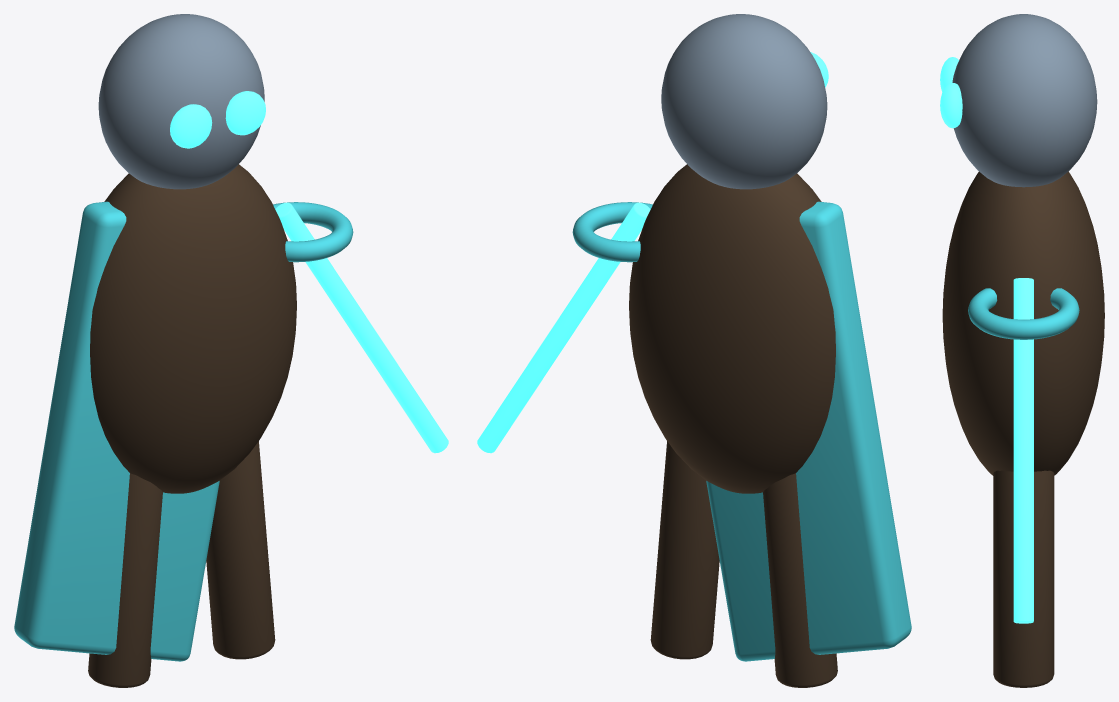
Rendered from humanoid_v4.glb.
3 renders of one model, left to right at view 1: azimuth 30°, elevation 25°; view 2: azimuth 150°, elevation 25°; view 3: azimuth 270°, elevation 25°, orthographic. The views are drawn at different scales.
Parts seen in each view (by area): view 1: DUELIST_TORSO_SECONDARY, DUELIST_CAPE_ACCENT, DUELIST_HEAD_PRIMARY, DUELIST_LEG_SECONDARY.001, DUELIST_LEG_SECONDARY, DUELIST_RAPIER_EMISSIVE, RAPIER_GUARD_ACCENT, EYE_EMISSIVE, EYE_EMISSIVE.001; view 2: DUELIST_TORSO_SECONDARY, DUELIST_CAPE_ACCENT, DUELIST_HEAD_PRIMARY, DUELIST_LEG_SECONDARY.001, DUELIST_LEG_SECONDARY, DUELIST_RAPIER_EMISSIVE, RAPIER_GUARD_ACCENT; view 3: DUELIST_TORSO_SECONDARY, DUELIST_HEAD_PRIMARY, DUELIST_LEG_SECONDARY.001, DUELIST_RAPIER_EMISSIVE, RAPIER_GUARD_ACCENT, EYE_EMISSIVE.001, EYE_EMISSIVE.
Boxes of the visible parts, x1,y1,x2,y2 form: DUELIST_TORSO_SECONDARY: (90,164,296,493); DUELIST_CAPE_ACCENT: (14,201,219,661); DUELIST_HEAD_PRIMARY: (98,14,264,189); DUELIST_LEG_SECONDARY.001: (206,441,275,659); DUELIST_LEG_SECONDARY: (88,473,162,687); DUELIST_RAPIER_EMISSIVE: (275,202,448,453); RAPIER_GUARD_ACCENT: (273,202,353,262); EYE_EMISSIVE: (170,104,212,148); EYE_EMISSIVE.001: (225,91,265,135); DUELIST_TORSO_SECONDARY: (629,164,835,493); DUELIST_CAPE_ACCENT: (706,201,911,661); DUELIST_HEAD_PRIMARY: (661,14,827,189); DUELIST_LEG_SECONDARY.001: (650,441,719,659); DUELIST_LEG_SECONDARY: (763,473,837,687); DUELIST_RAPIER_EMISSIVE: (477,202,650,453); RAPIER_GUARD_ACCENT: (572,202,652,262); DUELIST_TORSO_SECONDARY: (942,171,1104,475); DUELIST_HEAD_PRIMARY: (952,14,1097,187); DUELIST_LEG_SECONDARY.001: (993,470,1054,687); DUELIST_RAPIER_EMISSIVE: (1013,278,1033,623); RAPIER_GUARD_ACCENT: (968,288,1079,339); EYE_EMISSIVE.001: (940,82,962,128); EYE_EMISSIVE: (940,57,958,92).
Size of the model in its own units: 1.89 by 2.74 by 0.65.
